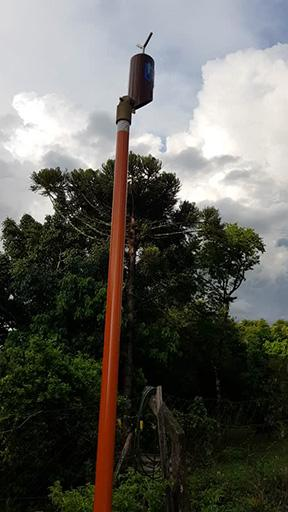Detector_Tensao_Contato: (127, 30, 156, 113)
Vara_Manobra: (93, 108, 131, 512)
